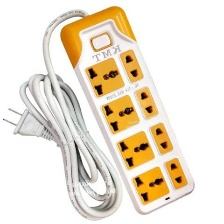three_eye_plug: (58, 5, 196, 216)
